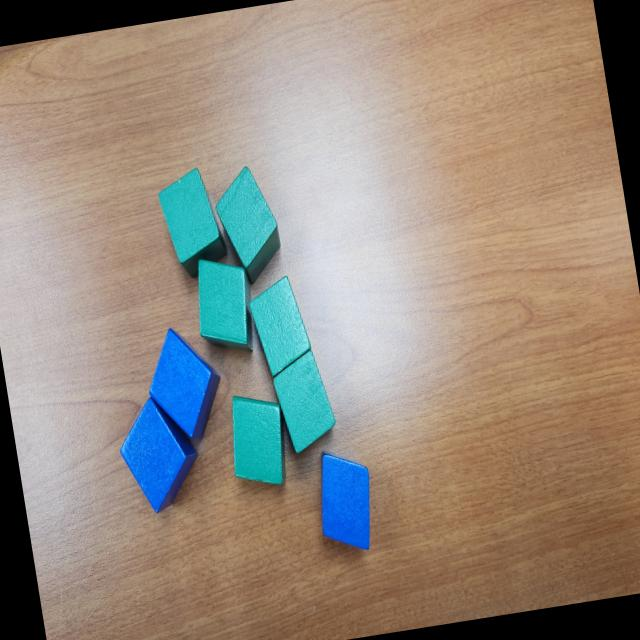blue: (112, 391, 207, 518), (139, 320, 231, 450), (310, 446, 381, 555)
green: (209, 162, 288, 288), (154, 164, 232, 283), (189, 248, 261, 358), (244, 273, 316, 381), (270, 349, 340, 457), (224, 390, 292, 492)
